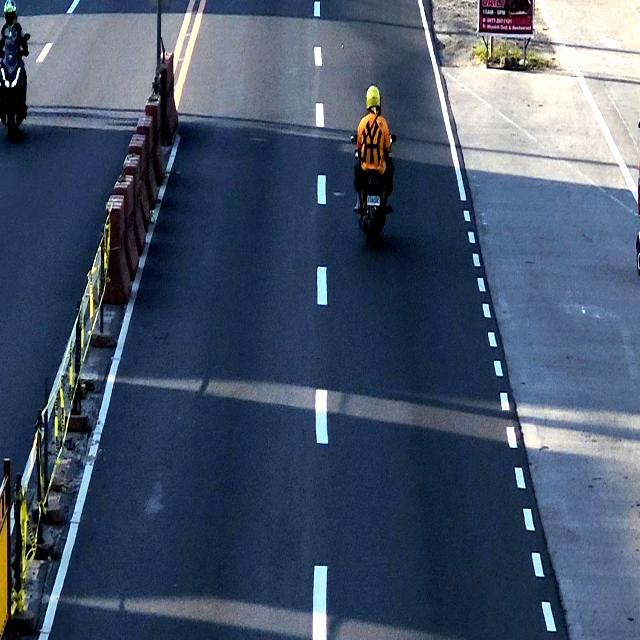Car: (351, 84, 395, 253), (364, 195, 383, 207)
